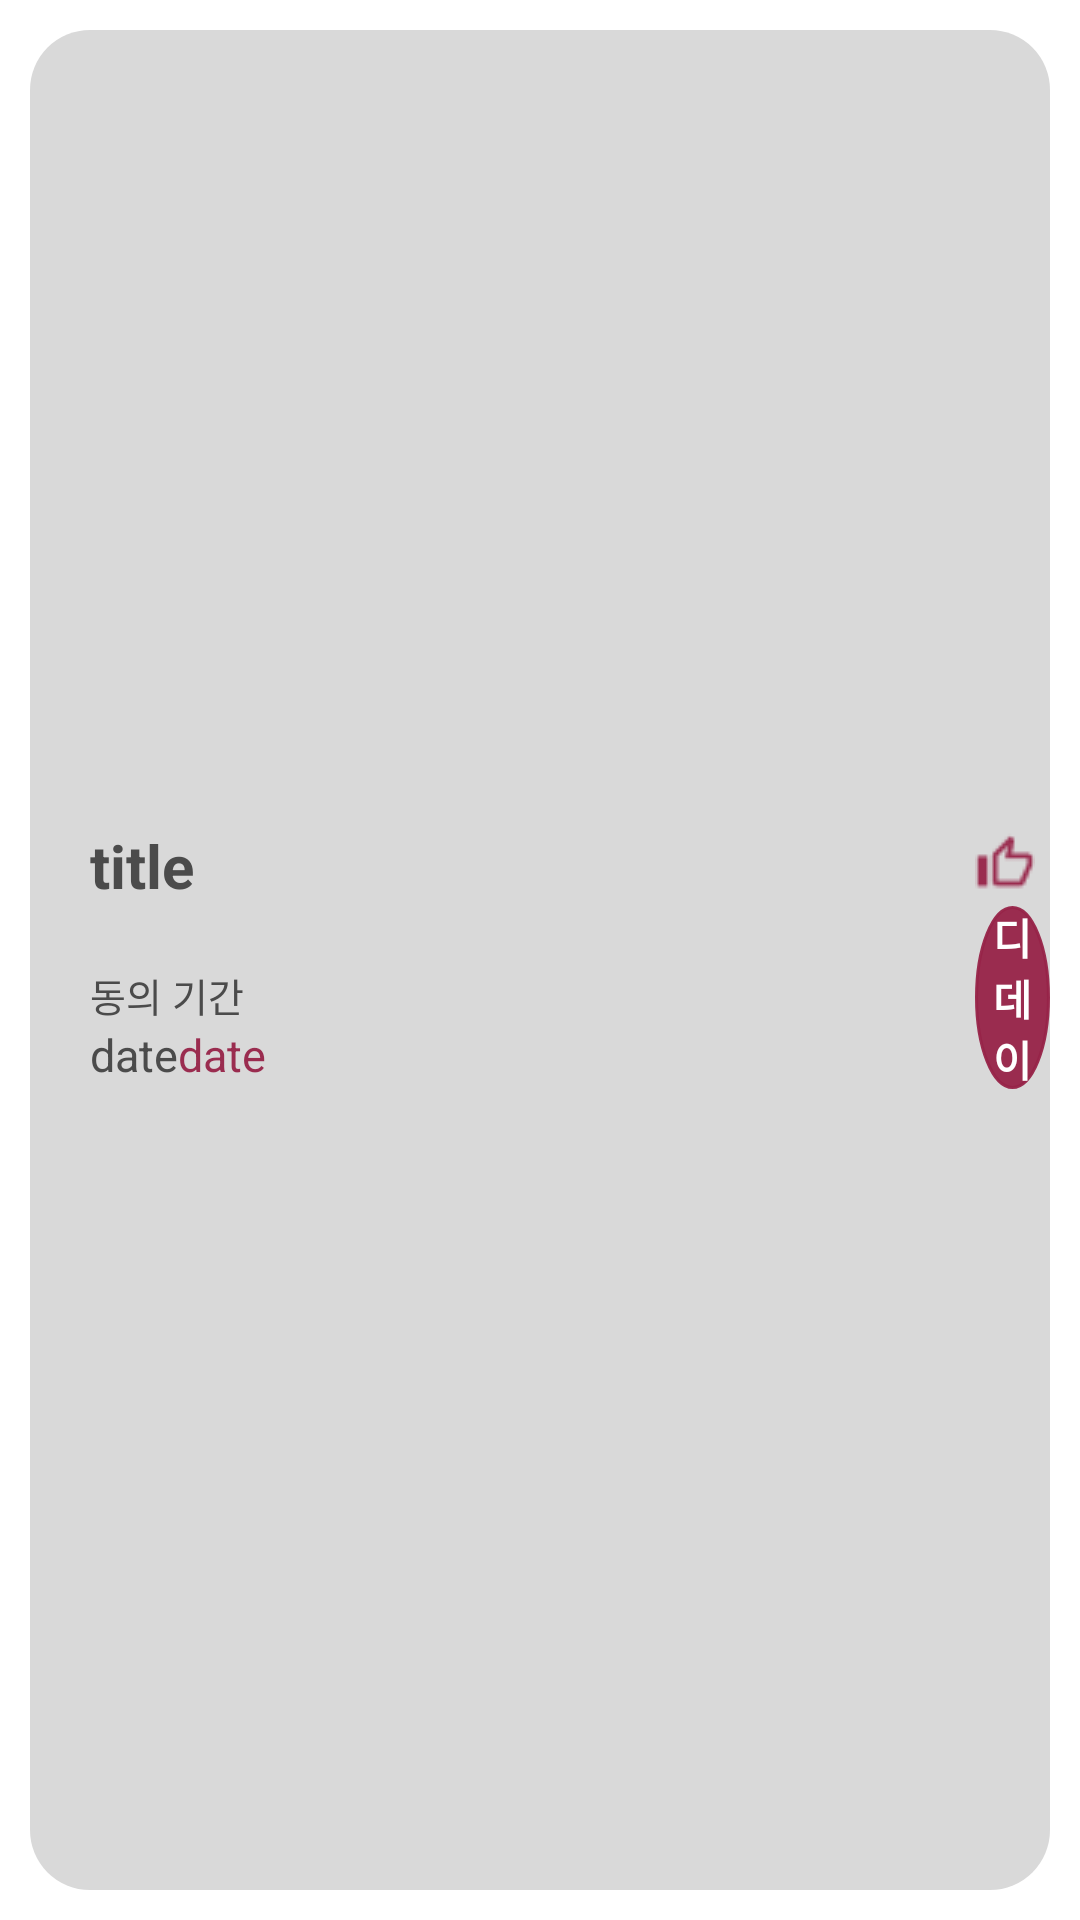

Icons on this 1080px×1920px Android screen, each with the point to tap as point (x, y):
ddabong: point (1005, 862)
